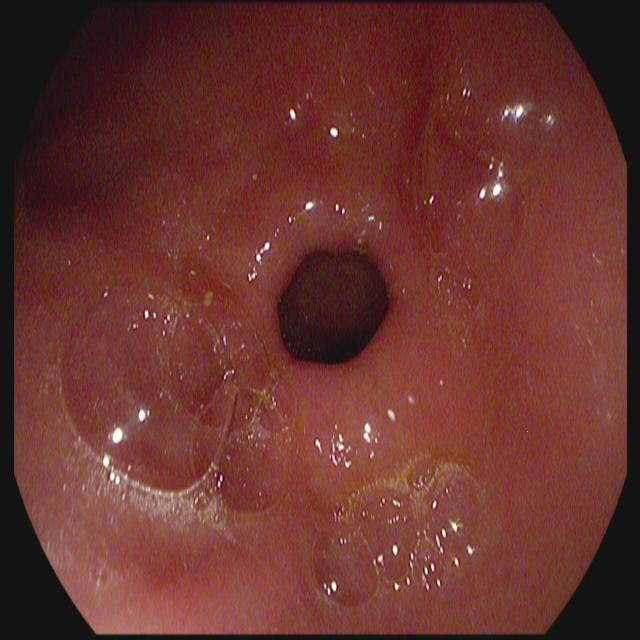normal-pylorus: (164, 125, 495, 500)
